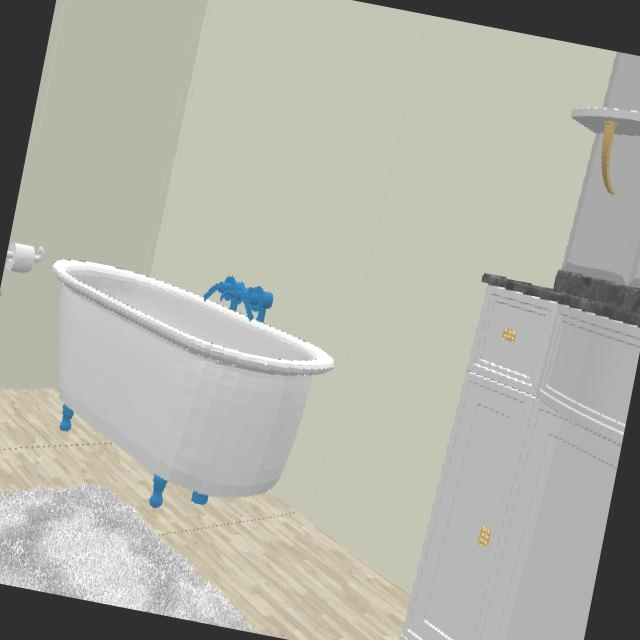bathtube: (52, 261, 332, 501)
